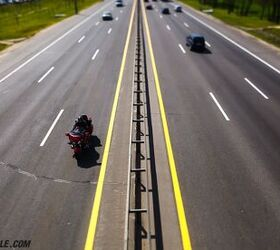Car: (181, 28, 211, 55)
Motorcycle: (64, 110, 102, 164)
